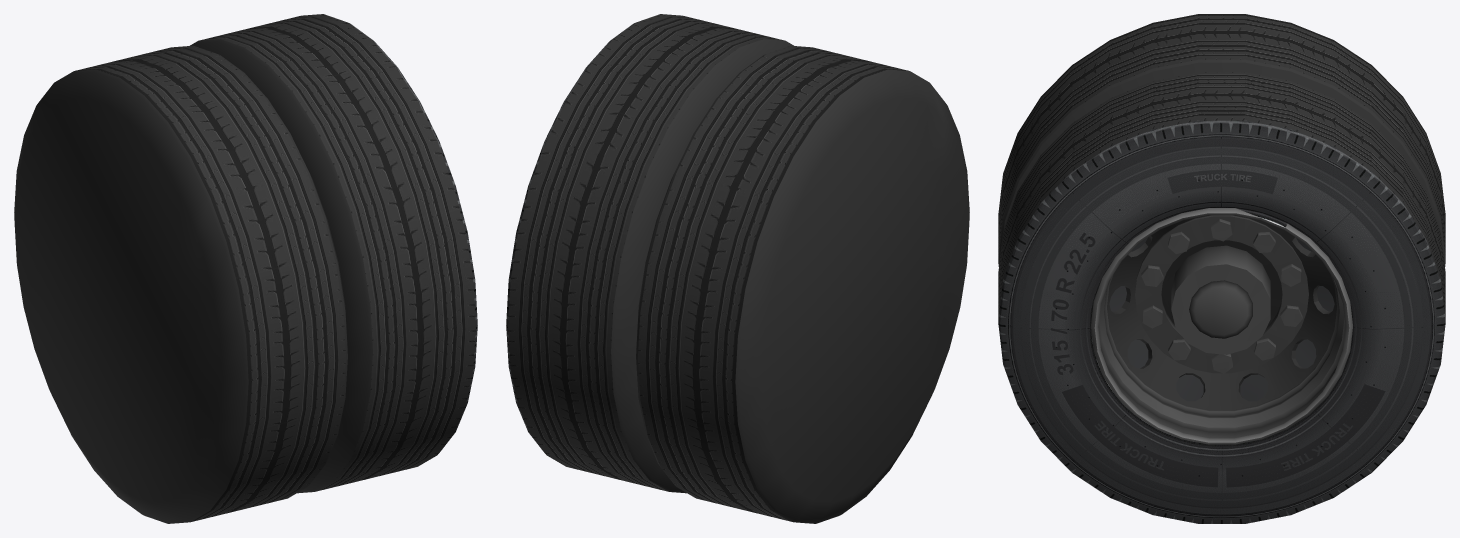
Rendered from RL Wheel.fbx.
3 views of the same model, side by side, from view 1: azimuth 30°, elevation 25°; view 2: azimuth 150°, elevation 25°; view 3: azimuth 270°, elevation 25° (orthographic). The views are drawn at different scales.
Visible parts, largest first — view 1: RL Tire; view 2: RL Tire; view 3: RL Tire, RL Rim.
Part boxes in pixels (x1=…): RL Tire: x1=14, y1=14, x2=477, y2=523; RL Tire: x1=506, y1=14, x2=969, y2=523; RL Tire: x1=998, y1=14, x2=1445, y2=523; RL Rim: x1=1091, y1=208, x2=1352, y2=444.
Size of the model in its own units: 66.79 by 106 by 106.
Materials: 2 (1 with a texture image).
